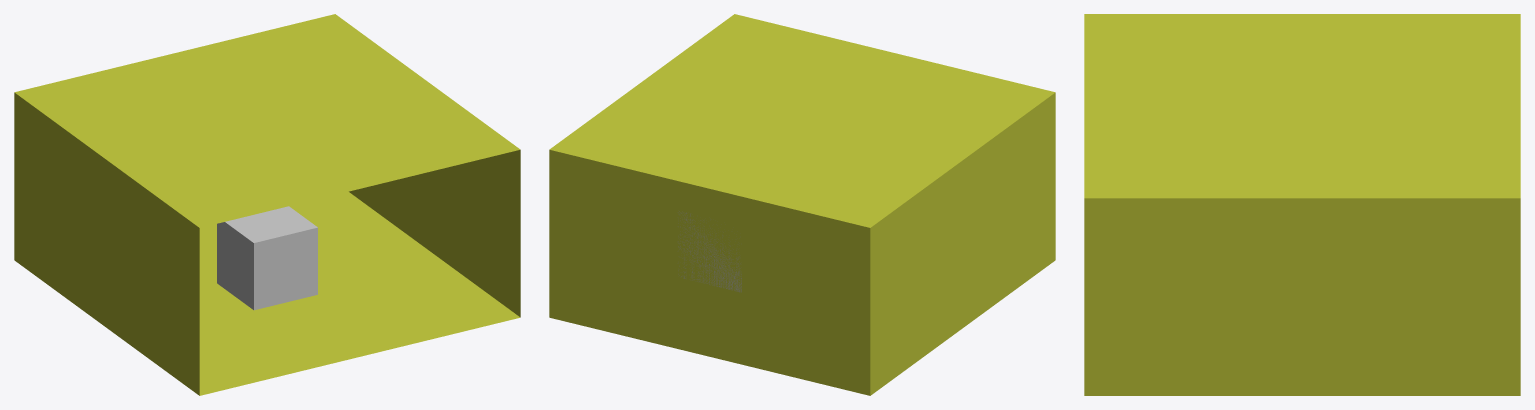
3 views of the same model, side by side, from view 1: azimuth 30°, elevation 25°; view 2: azimuth 150°, elevation 25°; view 3: azimuth 270°, elevation 25° (orthographic). The views are drawn at different scales.
Visible parts, largest first — view 1: ceiling, leftwall, floor, rightwall, Cube; view 2: ceiling, backwall, leftwall, light; view 3: rightwall, ceiling.
Part boxes in pixels (box(x1,y1,x2,y2)): ceiling: box(15, 14, 519, 227); leftwall: box(14, 92, 199, 395); floor: box(199, 191, 519, 395); rightwall: box(349, 149, 520, 317); Cube: box(217, 206, 317, 310); ceiling: box(550, 14, 1054, 227); backwall: box(549, 149, 870, 395); leftwall: box(870, 92, 1055, 395); light: box(678, 211, 741, 292); rightwall: box(1084, 198, 1520, 395); ceiling: box(1084, 14, 1520, 198).
Bounding box in the file's own units: 10 × 5 × 10.
